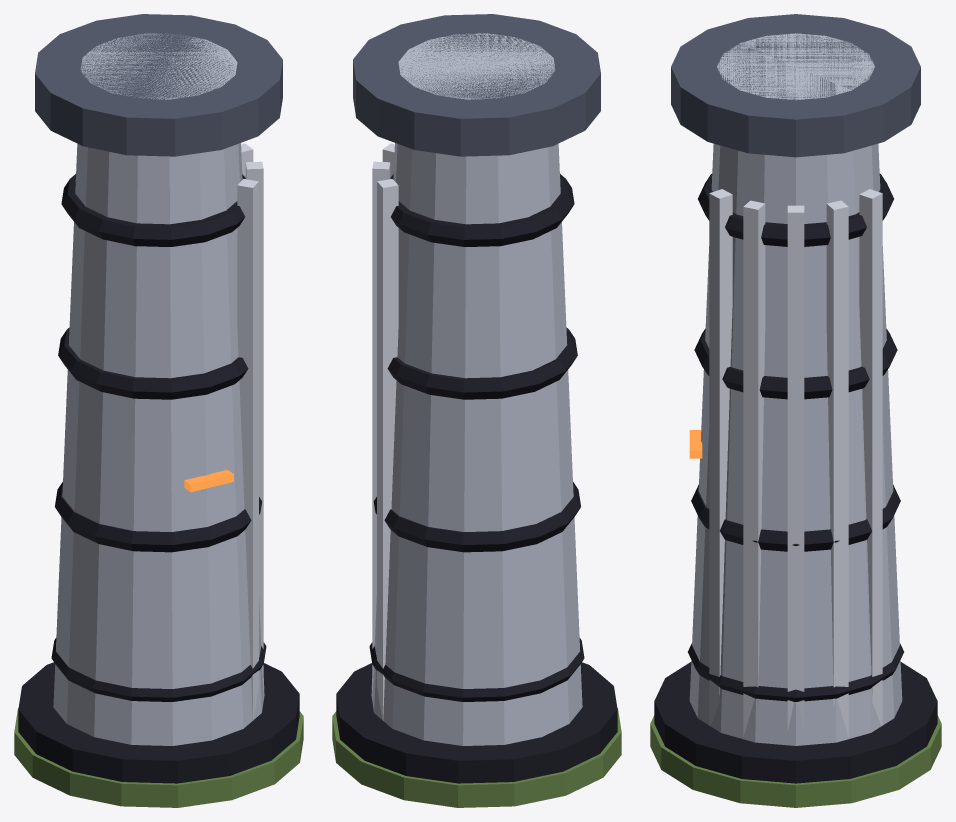
The model's file is jungle_column.glb.
3 renders of one model, left to right at view 1: azimuth 30°, elevation 25°; view 2: azimuth 150°, elevation 25°; view 3: azimuth 270°, elevation 25°, orthographic.
Parts seen in each view (by area): view 1: jungle_column; view 2: jungle_column; view 3: jungle_column.
Part boxes in pixels (x1,y1,x2,y2): jungle_column: [14, 14, 303, 807]; jungle_column: [332, 14, 621, 807]; jungle_column: [650, 14, 941, 807].
Size of the model in its own units: 7 by 18 by 7.
